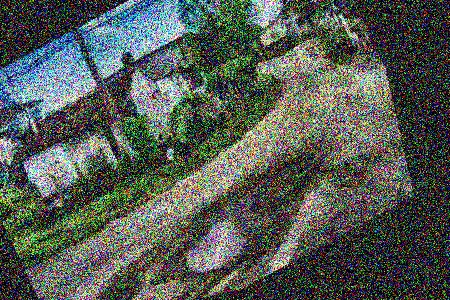pothole: (170, 203, 261, 285)
